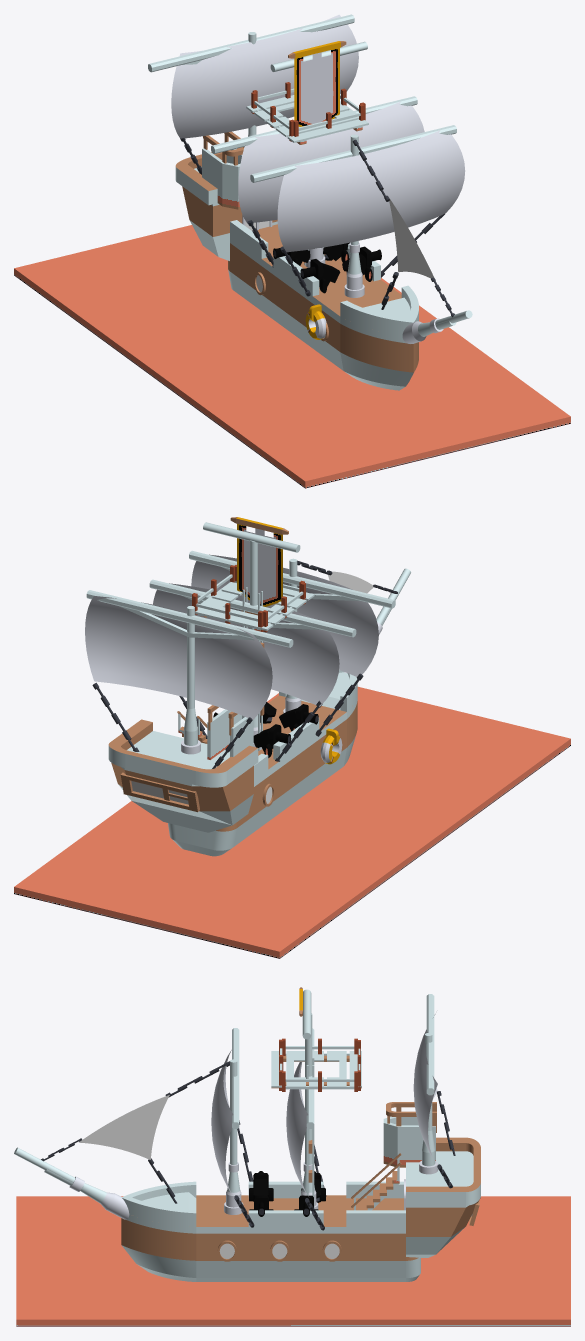
Rendered from pirateship.glb.
The picture shows the model from 3 angles, top to bottom: view 1: azimuth 30°, elevation 25°; view 2: azimuth 150°, elevation 25°; view 3: azimuth 270°, elevation 25°; orthographic projection. The views are drawn at different scales.
Parts seen in each view (by area): view 1: block, sail (×3), hull (×2), hull_frontSmooth, banner_red, post_wall (×4), hull_backEdge, rail_frontSmoothDeck, hull_back, platform_woodHole, rail (×2), hut_hexagon (+3 smaller); view 2: block, sail (×3), hull_backEdge, post_wall (×5), hull (×2), rail_back, banner_red, hull_back, platform_woodHole, hut_hexagon, window_detail, mast_middle (×2) (+5 smaller); view 3: block, hull (×2), hull_backEdge, sail (×3), hull_back, hull_frontSmooth, rail (×2), sail_triangle, rail_frontSmoothDeck, rail_back, platform_woodHole, hut_hexagon (+8 smaller).
Part boxes in pixels (x1=…): block: x1=14, y1=225, x2=570, y2=488; sail (×3): x1=171, y1=14, x2=465, y2=252; hull (×2): x1=261, y1=256, x2=401, y2=370; hull_frontSmooth: x1=340, y1=317, x2=418, y2=390; banner_red: x1=288, y1=41, x2=346, y2=126; post_wall (×4): x1=148, y1=14, x2=456, y2=182; hull_backEdge: x1=182, y1=167, x2=277, y2=260; rail_frontSmoothDeck: x1=340, y1=285, x2=418, y2=335; hull_back: x1=228, y1=224, x2=282, y2=313; platform_woodHole: x1=246, y1=95, x2=368, y2=144; rail (×2): x1=230, y1=220, x2=380, y2=296; hut_hexagon: x1=202, y1=148, x2=242, y2=209; block: x1=14, y1=686, x2=570, y2=958; sail (×3): x1=85, y1=554, x2=378, y2=719; hull_backEdge: x1=111, y1=731, x2=253, y2=832; post_wall (×5): x1=86, y1=576, x2=395, y2=647; hull (×2): x1=258, y1=695, x2=346, y2=823; rail_back: x1=108, y1=719, x2=258, y2=787; banner_red: x1=230, y1=517, x2=288, y2=606; hull_back: x1=168, y1=770, x2=268, y2=856; platform_woodHole: x1=195, y1=581, x2=314, y2=631; hut_hexagon: x1=207, y1=709, x2=253, y2=759; window_detail: x1=120, y1=772, x2=199, y2=812; mast_middle (×2): x1=187, y1=522, x2=300, y2=694; block: x1=16, y1=1196, x2=570, y2=1326; hull (×2): x1=196, y1=1195, x2=345, y2=1281; hull_backEdge: x1=406, y1=1151, x2=480, y2=1257; sail (×3): x1=211, y1=1014, x2=437, y2=1196; hull_back: x1=346, y1=1195, x2=420, y2=1281; hull_frontSmooth: x1=121, y1=1214, x2=196, y2=1281; rail (×2): x1=248, y1=1181, x2=405, y2=1226; sail_triangle: x1=79, y1=1095, x2=169, y2=1159; rail_frontSmoothDeck: x1=122, y1=1181, x2=196, y2=1226; rail_back: x1=406, y1=1137, x2=480, y2=1205; platform_woodHole: x1=271, y1=1051, x2=361, y2=1088; hut_hexagon: x1=383, y1=1116, x2=435, y2=1167.
Size of the model in its own units: 3.96 by 4.1 by 7.43.
Materials: 1 (1 with a texture image).
